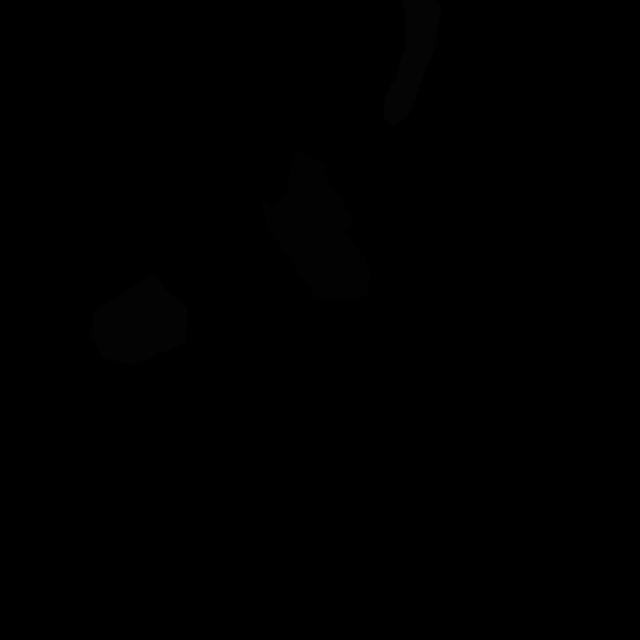cardboard: (260, 151, 372, 303)
metal: (91, 273, 188, 365)
soft_plastic: (383, 0, 442, 126)
